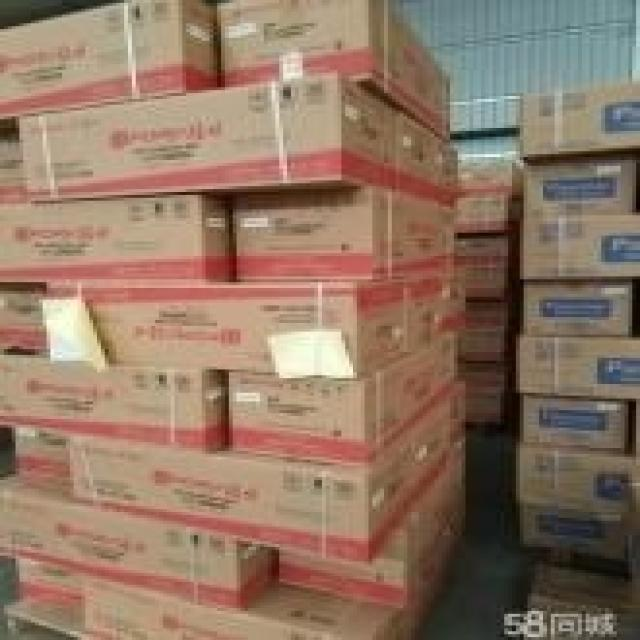box: (70, 375, 469, 564), (16, 67, 458, 207), (47, 273, 462, 378), (0, 474, 272, 611), (213, 0, 454, 140), (272, 442, 469, 608), (225, 332, 462, 468), (0, 355, 229, 454), (85, 573, 415, 640), (229, 186, 462, 279), (0, 192, 237, 282), (520, 81, 640, 160), (516, 439, 640, 515), (520, 148, 640, 218), (520, 212, 636, 279), (516, 335, 636, 399), (516, 279, 632, 335), (516, 503, 628, 559), (520, 393, 632, 448), (16, 559, 85, 628), (462, 230, 516, 303), (12, 428, 70, 495), (458, 300, 516, 364), (0, 282, 47, 352), (462, 364, 512, 425), (462, 198, 524, 236), (462, 163, 524, 198), (0, 137, 27, 201)
